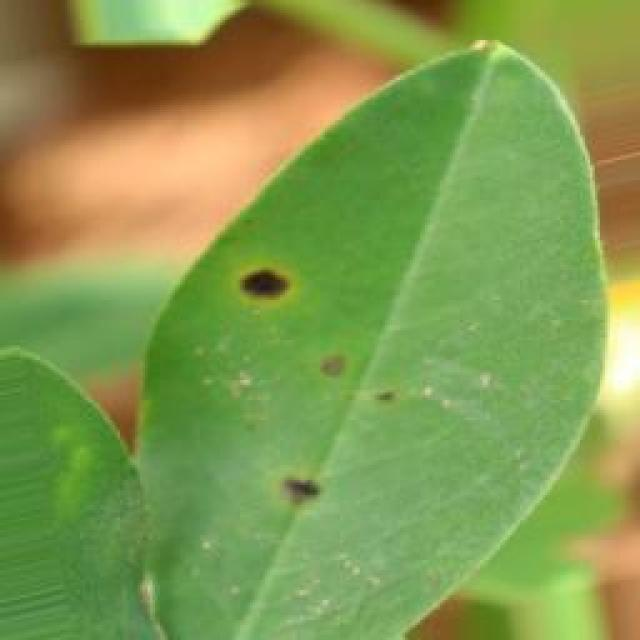Sigatoka: (304, 331, 418, 425), (267, 450, 363, 552), (211, 248, 305, 329)
